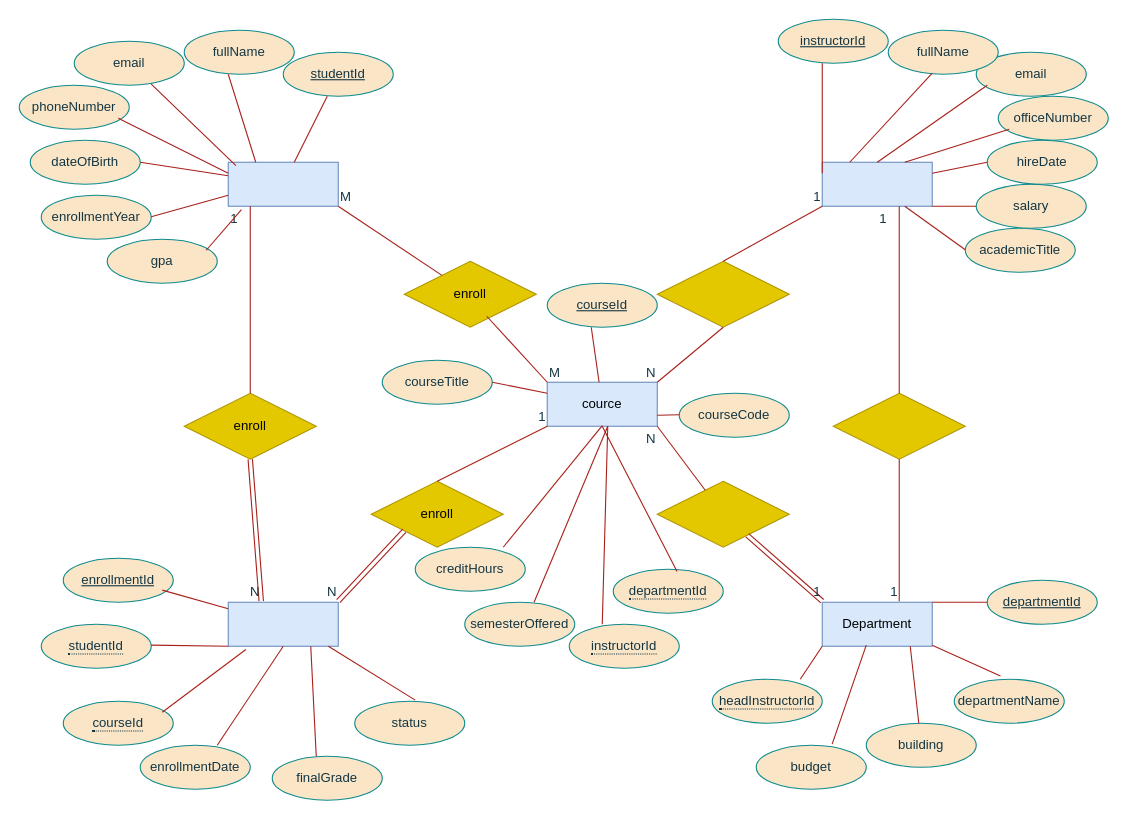
Image size: 1128x820. Some labels were removed from this diagram. Each missing label, with the centre of its shape:
Belong: the point at 722,513
Enrollment: the point at 282,623
has: the point at 898,425
Instructor: the point at 876,183
Student: the point at 282,183
taught: the point at 722,293
